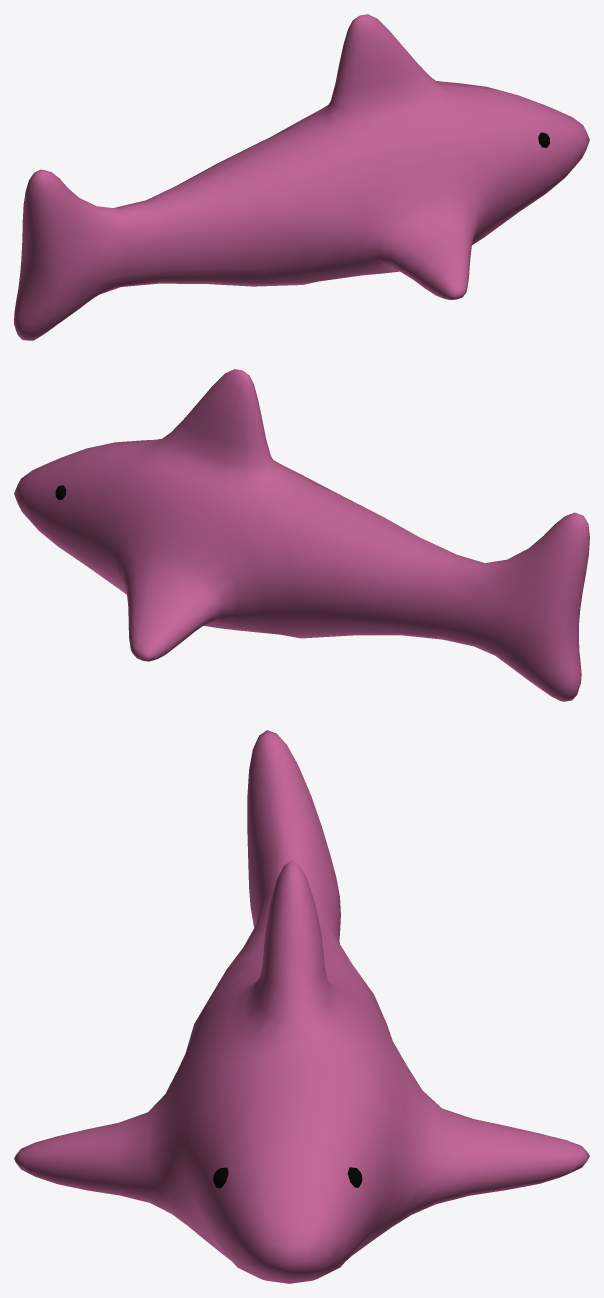
File: Shark_Toy_Pink.fbx
3 renders of one model, top to bottom at view 1: azimuth 30°, elevation 25°; view 2: azimuth 150°, elevation 25°; view 3: azimuth 270°, elevation 25°, orthographic. The views are drawn at different scales.
Visible parts, largest first — view 1: SharkPlushy_a; view 2: SharkPlushy_a; view 3: SharkPlushy_a.
Part boxes in pixels (left/top/right/bottom): SharkPlushy_a: left=14, top=14, right=589, bottom=340; SharkPlushy_a: left=14, top=369, right=589, bottom=701; SharkPlushy_a: left=14, top=730, right=589, bottom=1283.
Bounding box in the file's own units: 4.91 × 2.07 × 3.04.
